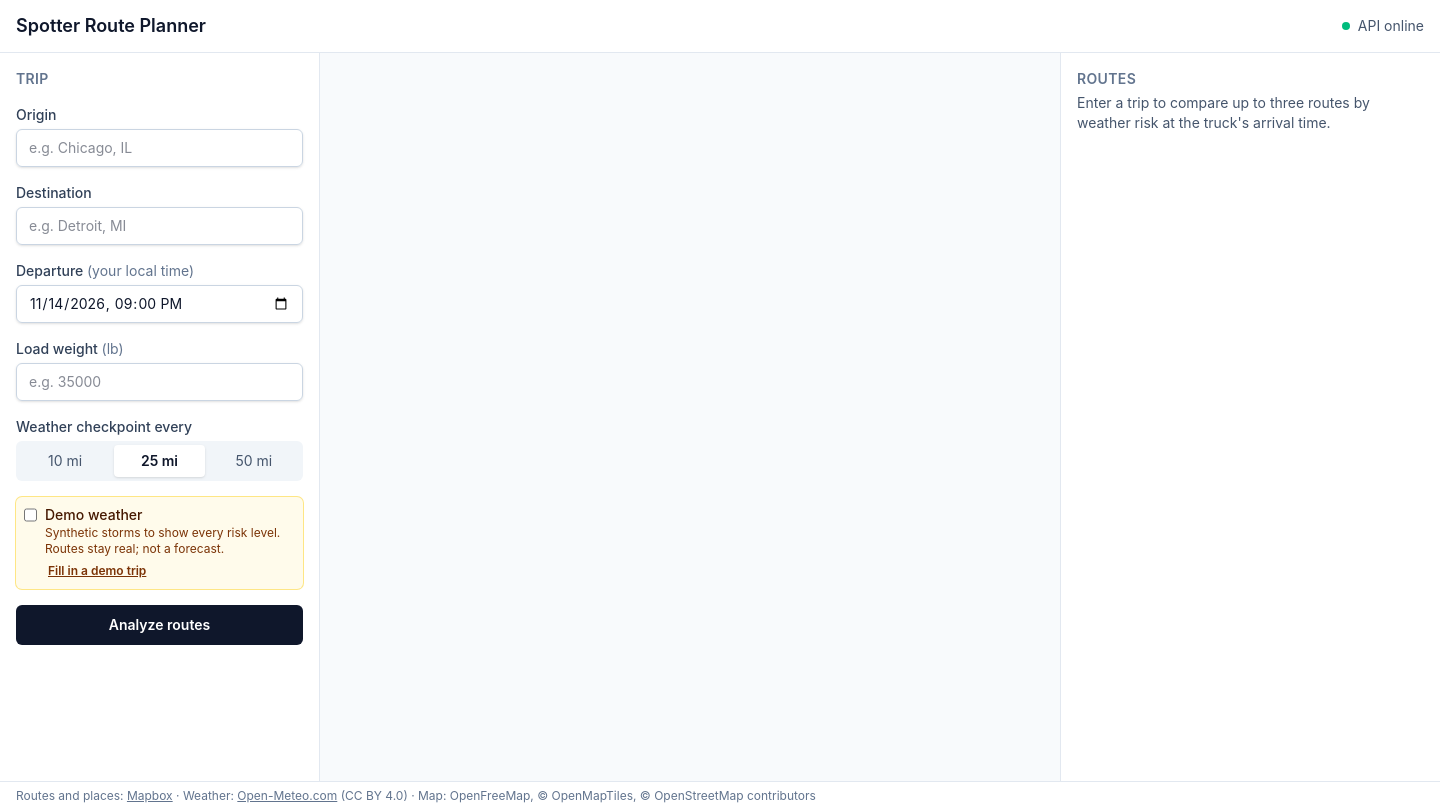
App › shows API errors from the error contract
This screenshot has width=1440, height=810.
Type "Origin" into the dropdown labelled "Origin" at (160, 148), box [16,129,303,167]
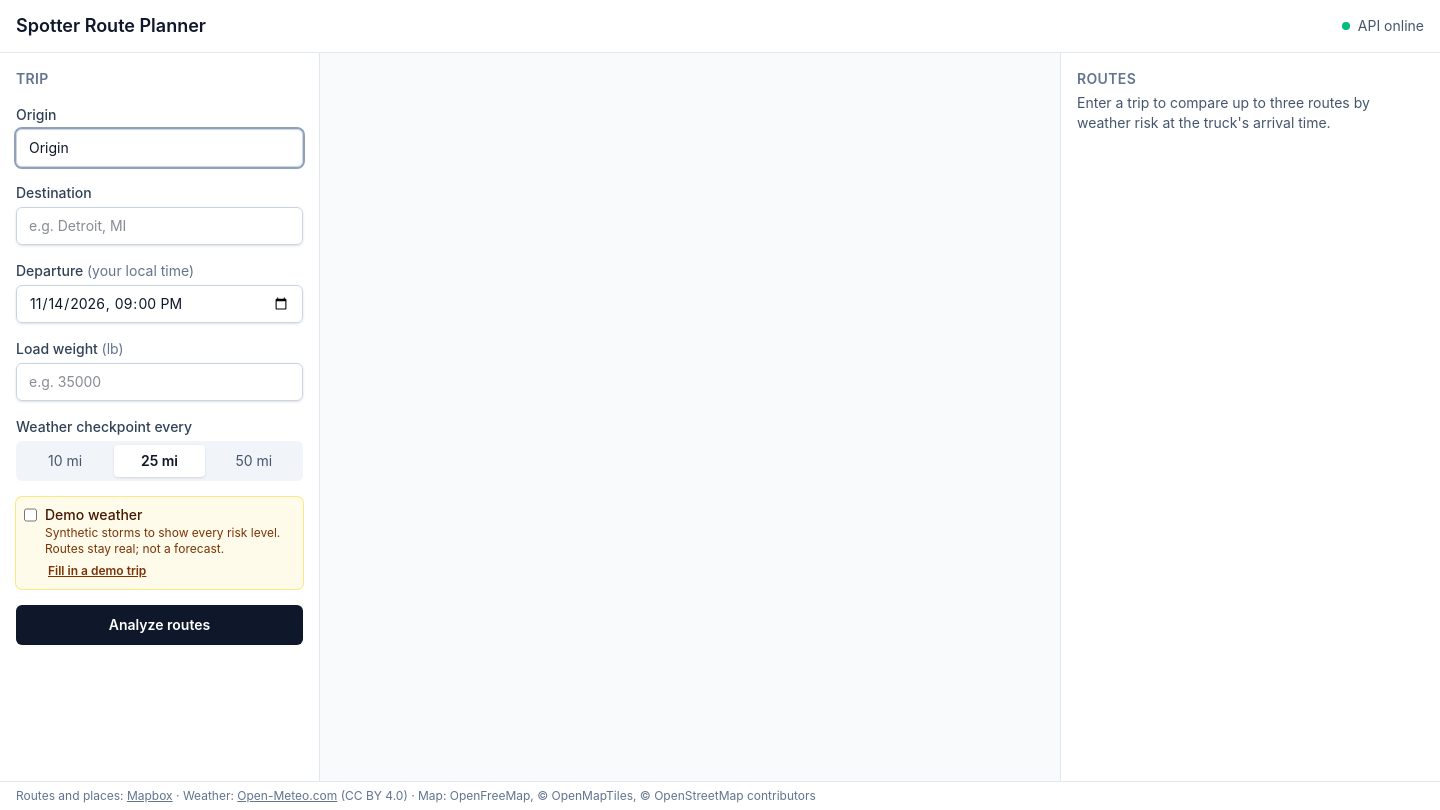
Type "Destination" into the dropdown labelled "Destination" at (160, 226), box [16,207,303,245]
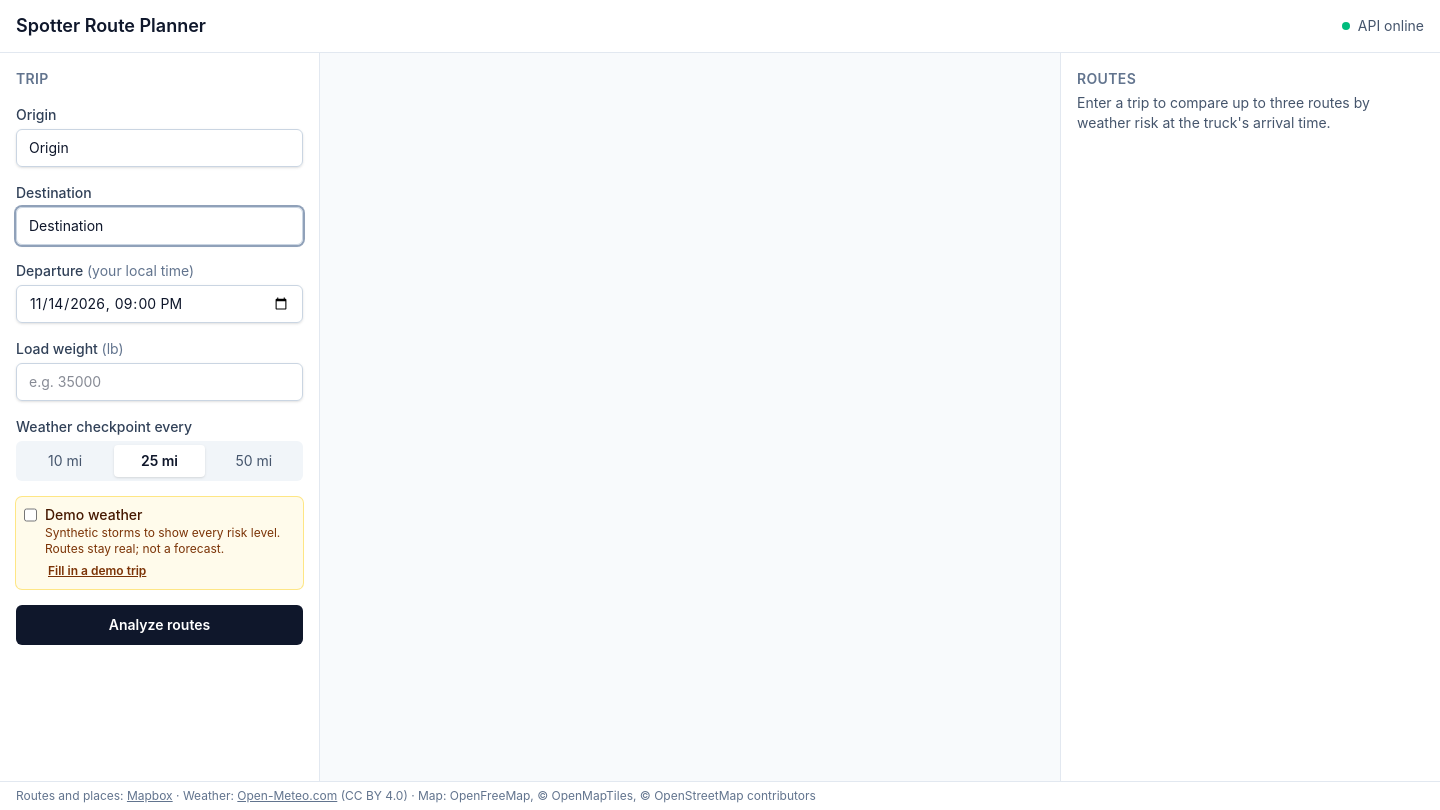
Type "35000" into the number field labelled "Load weight (lb)" at (160, 382), box [16,363,303,401]
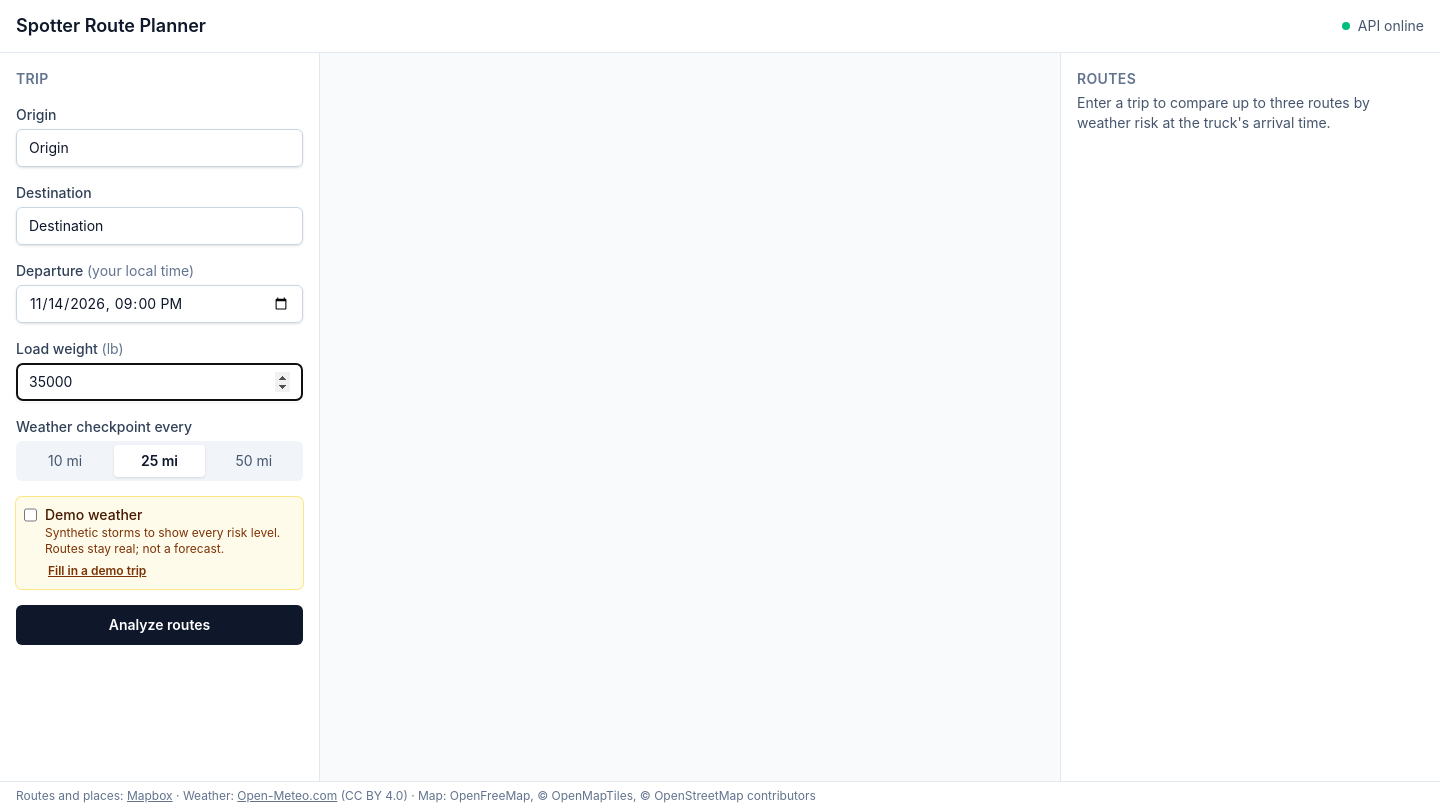
Click the button "Analyze routes" at (160, 625), box [16,605,303,645]
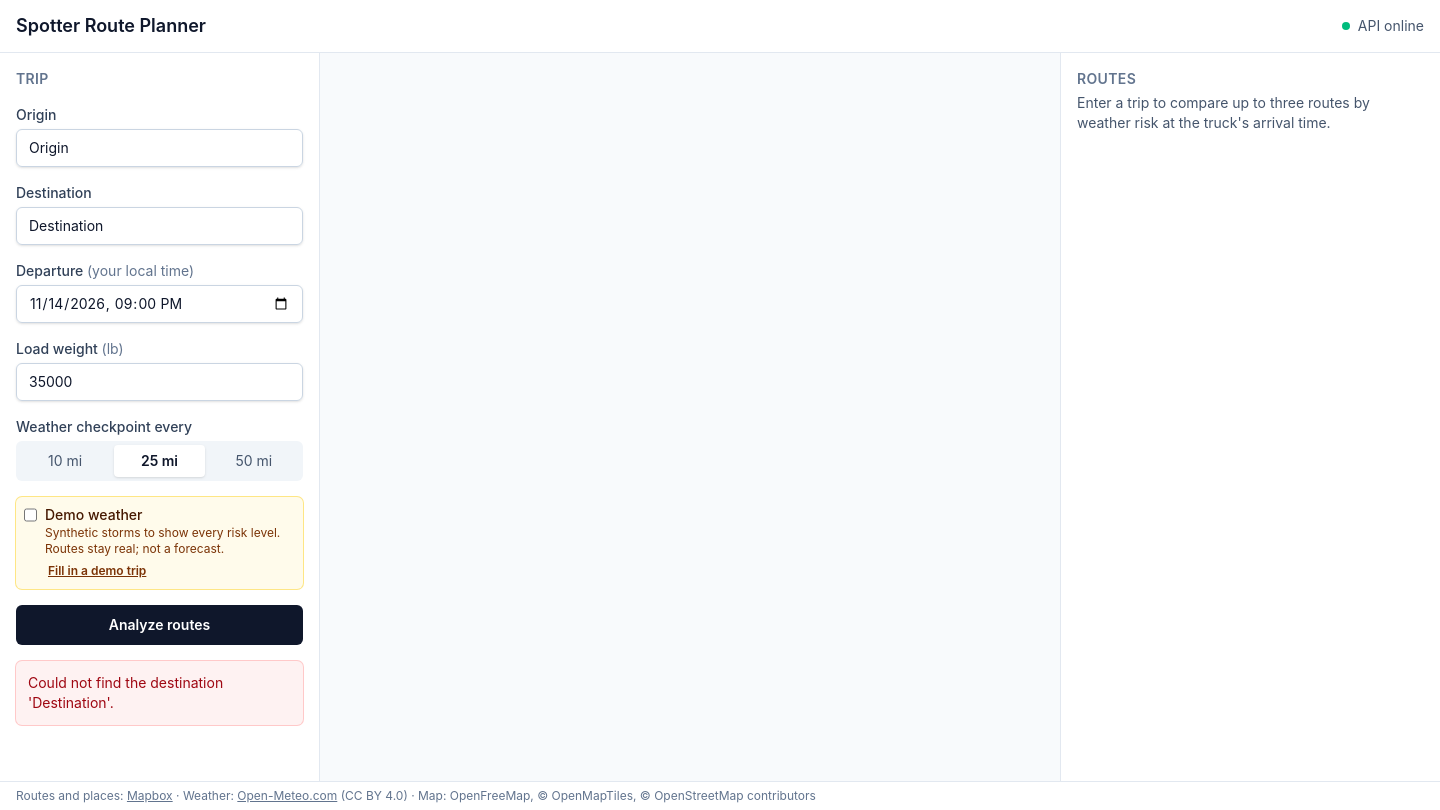
expect the text "Could not find the destination 'Destination'." is shown: met, box [16,661,303,725]
